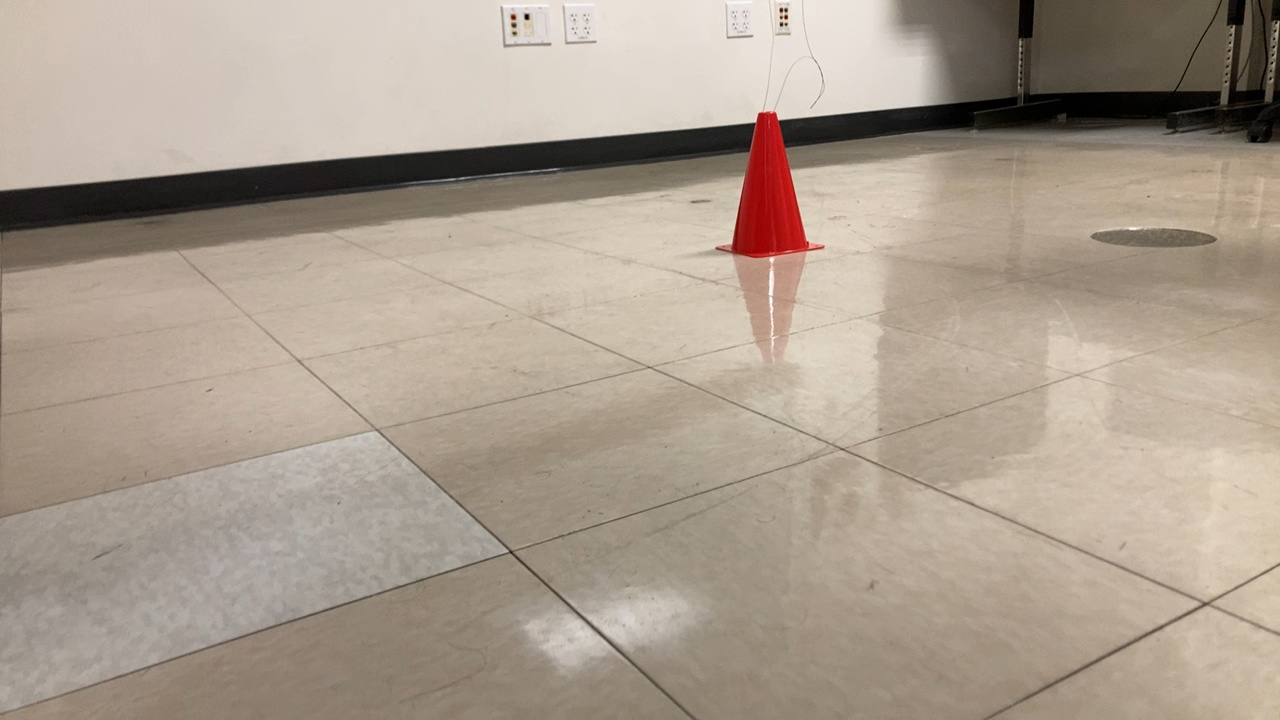red_cone: (710, 108, 828, 266)
